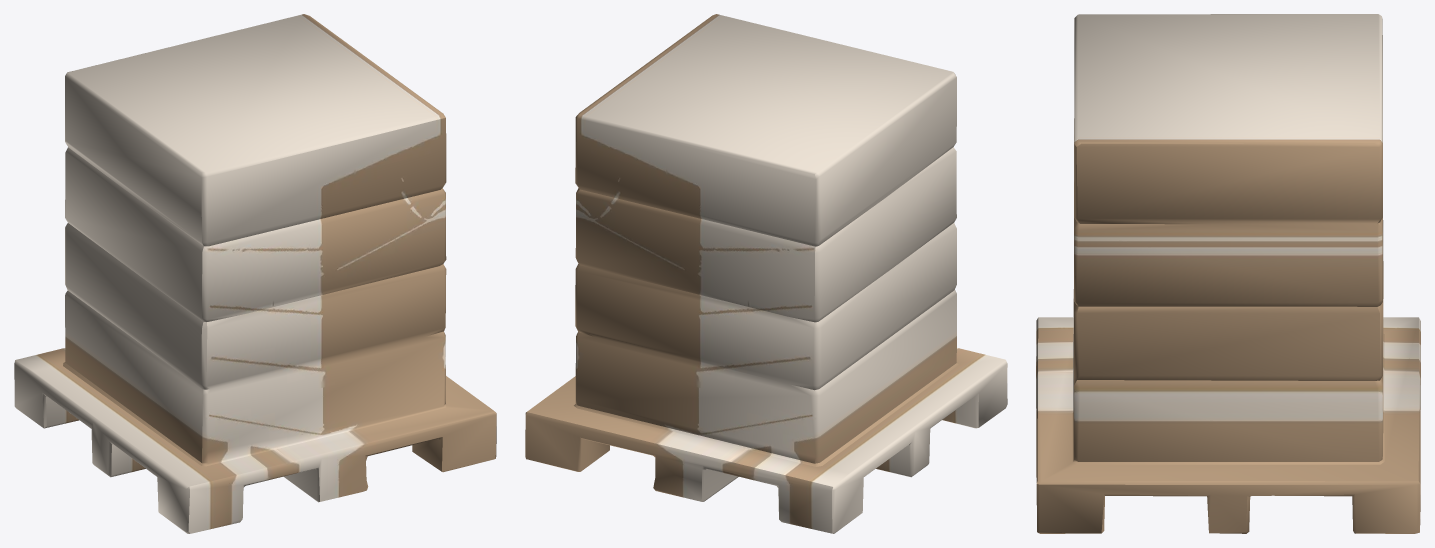
The picture shows the model from 3 angles, left to right: view 1: azimuth 30°, elevation 25°; view 2: azimuth 150°, elevation 25°; view 3: azimuth 270°, elevation 25°; orthographic projection. The views are drawn at different scales.
Visible parts, largest first — view 1: Decor_box_stack_b; view 2: Decor_box_stack_b; view 3: Decor_box_stack_b.
Boxes of the visible parts, <box> form: Decor_box_stack_b: <box>14,14,496,533</box>; Decor_box_stack_b: <box>525,14,1007,533</box>; Decor_box_stack_b: <box>1036,14,1420,533</box>.
Size of the model in its own units: 1.24 by 1.3 by 1.21.
1 material, 1 textured.
